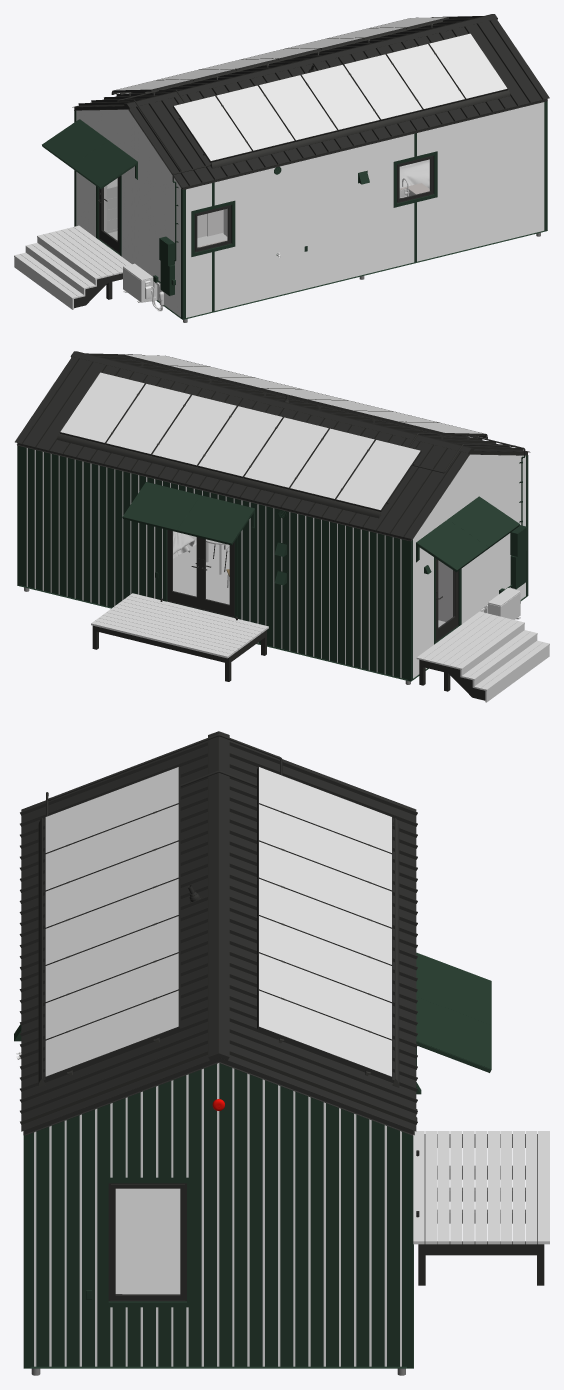
Rendered from Studio.glb.
The picture shows the model from 3 angles, top to bottom: view 1: azimuth 30°, elevation 25°; view 2: azimuth 150°, elevation 25°; view 3: azimuth 270°, elevation 25°; orthographic projection. The views are drawn at different scales.
Visible parts, largest first — view 1: Wall_e_BackWindow_S, SP_Right_S, Roof_S, Wall_e_LeftWindow_S, Deck_S, Awning_Rigth_S, SP_Left_S, Shield_Right_S, Glass_S, Frame_Around_S.001, Frame_BackWindow_S, Air_purification_S (+13 smaller); view 2: Wall_e_FrontDoor_W_S, SP_Left_S, Roof_S, Wall_e_LeftWindow_S, Wall_e_FrontDoor_S, Deck_S, Deck_Front_S, Awning_Front_S, Awning_Rigth_S, SP_Right_S, Door_GlassFront_S, Shield_Left_S (+15 smaller); view 3: Wall_e_LefttDoor_W_S, Roof_S, SP_Left_S, SP_Right_S, Wall_e_LefttDoor_S, Deck_Front_S, Awning_Front_S, Floor_S, Glass_Left_S, Frame_Around_S.001, Undersructure_Front_S, Frame_LeftWindow_S (+5 smaller).
Part boxes in pixels (x1,y1,x2,y2): Wall_e_BackWindow_S: [186, 102, 544, 317]; SP_Right_S: [173, 33, 507, 162]; Roof_S: [72, 14, 549, 189]; Wall_e_LeftWindow_S: [76, 109, 180, 316]; Deck_S: [14, 225, 131, 309]; Awning_Rigth_S: [42, 119, 137, 189]; SP_Left_S: [113, 17, 448, 92]; Shield_Right_S: [210, 90, 510, 168]; Glass_S: [197, 160, 430, 247]; Frame_Around_S.001: [74, 101, 547, 319]; Frame_BackWindow_S: [191, 151, 437, 256]; Air_purification_S: [123, 263, 163, 311]; Wall_e_FrontDoor_W_S: [20, 446, 407, 679]; SP_Left_S: [59, 372, 421, 511]; Roof_S: [15, 351, 530, 541]; Wall_e_LeftWindow_S: [413, 454, 525, 678]; Wall_e_FrontDoor_S: [26, 448, 401, 677]; Deck_S: [416, 611, 549, 702]; Deck_Front_S: [91, 593, 268, 658]; Awning_Front_S: [122, 482, 254, 545]; Awning_Rigth_S: [416, 496, 519, 572]; SP_Right_S: [123, 354, 485, 435]; Door_GlassFront_S: [172, 531, 229, 604]; Shield_Left_S: [57, 433, 381, 518]; Wall_e_LefttDoor_W_S: [30, 1063, 406, 1366]; Roof_S: [19, 731, 417, 1135]; SP_Left_S: [257, 766, 392, 1080]; SP_Right_S: [45, 766, 180, 1079]; Wall_e_LefttDoor_S: [34, 1063, 401, 1366]; Deck_Front_S: [413, 1131, 549, 1244]; Awning_Front_S: [416, 952, 491, 1072]; Floor_S: [115, 1188, 180, 1294]; Glass_Left_S: [116, 1189, 179, 1294]; Frame_Around_S.001: [24, 1133, 413, 1367]; Undersructure_Front_S: [418, 1134, 544, 1285]; Frame_LeftWindow_S: [102, 1177, 193, 1307].
Size of the model in its own units: 10.44 by 4.29 by 6.25.
37 materials, 2 textured.
